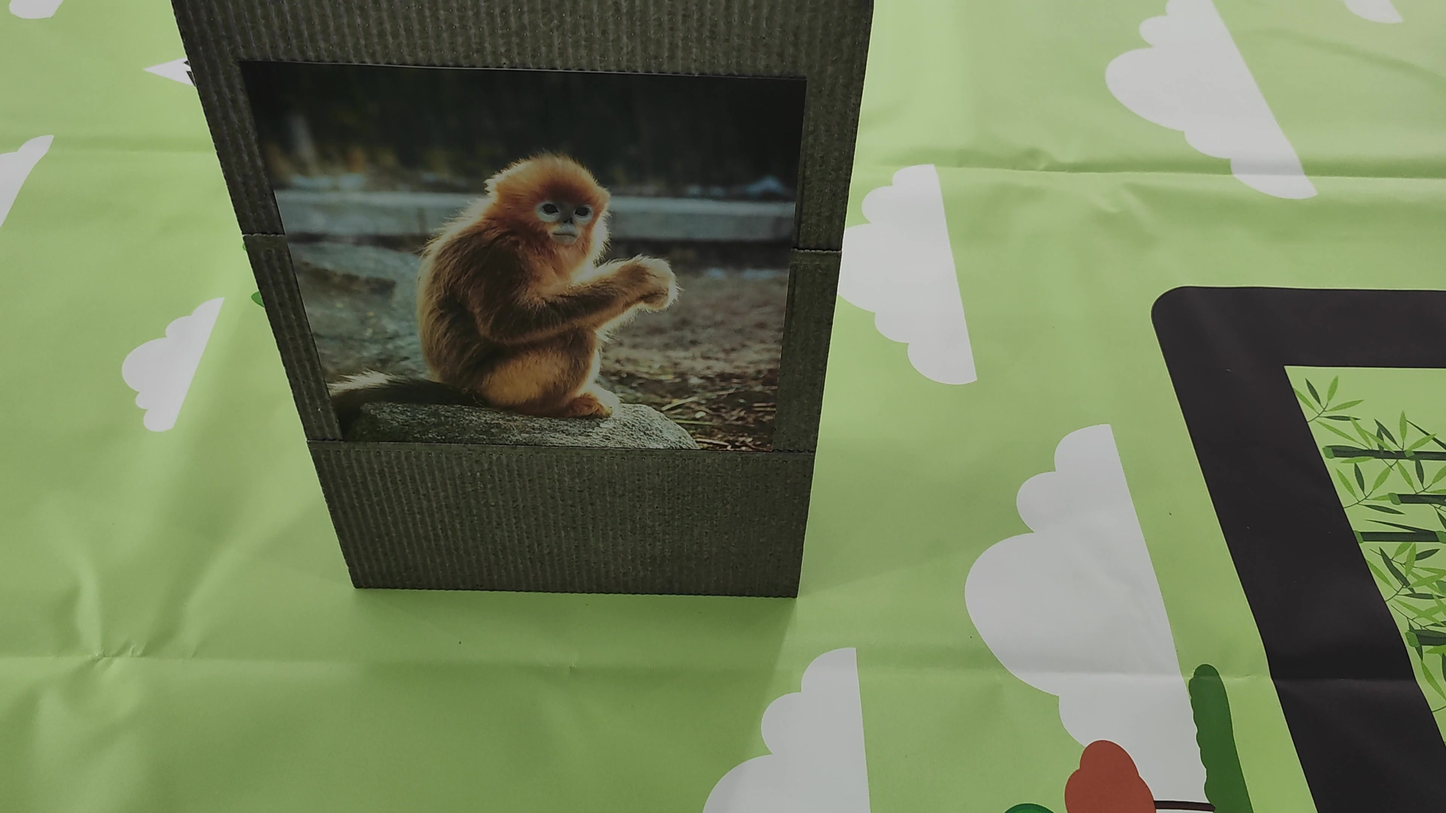monkey: (398, 125, 702, 447)
